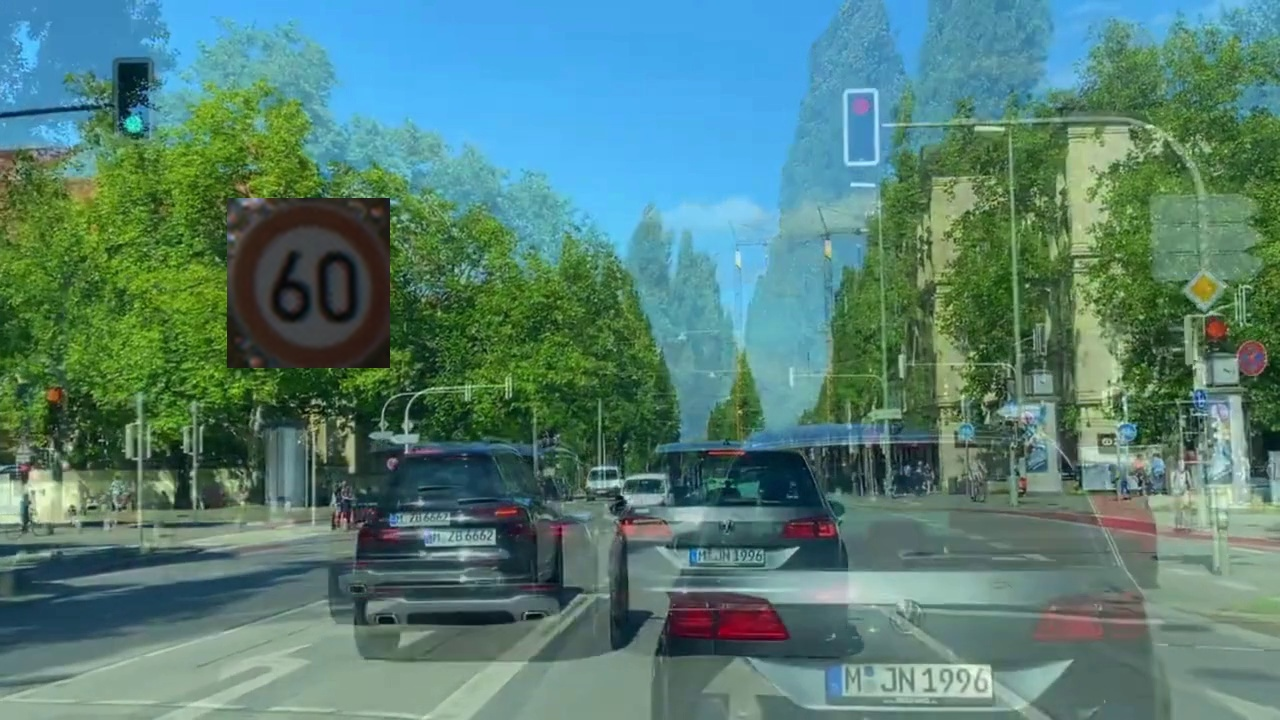Speed 60: (227, 198, 390, 368)
